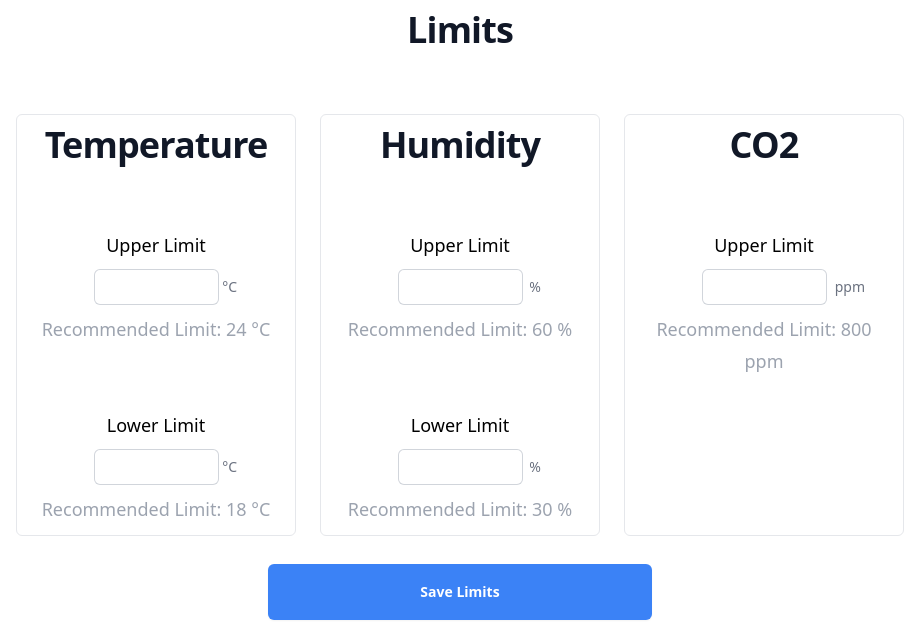
Test: Limits › handleCO2Change function › should update CO2 state with sanitized value
Note: Simulate a change event on the input
Type "80As,0" into the field with test id "co2-input".
click(764, 287); type("80As,0")  # box [702,269,826,305]
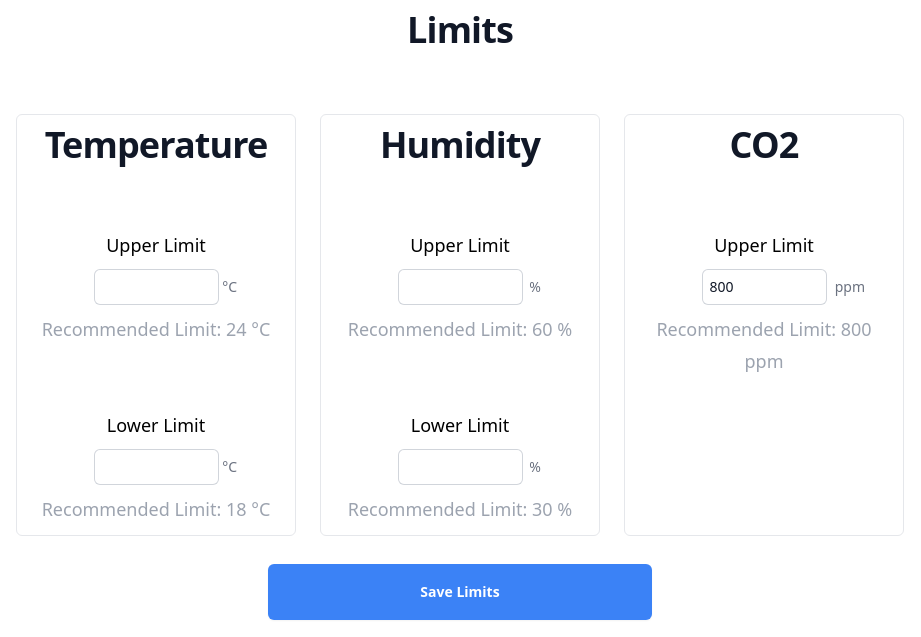
Now the field with test id "co2-input" holds "800", box [702,269,826,305]
